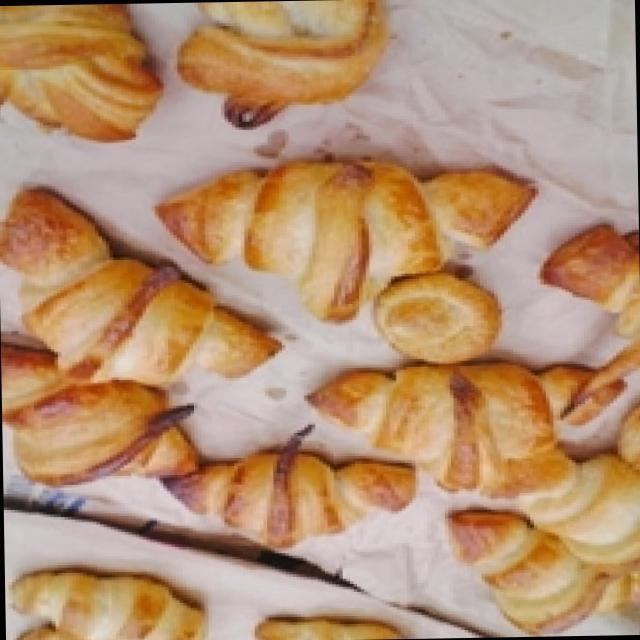Croissant: (150, 145, 554, 331)
